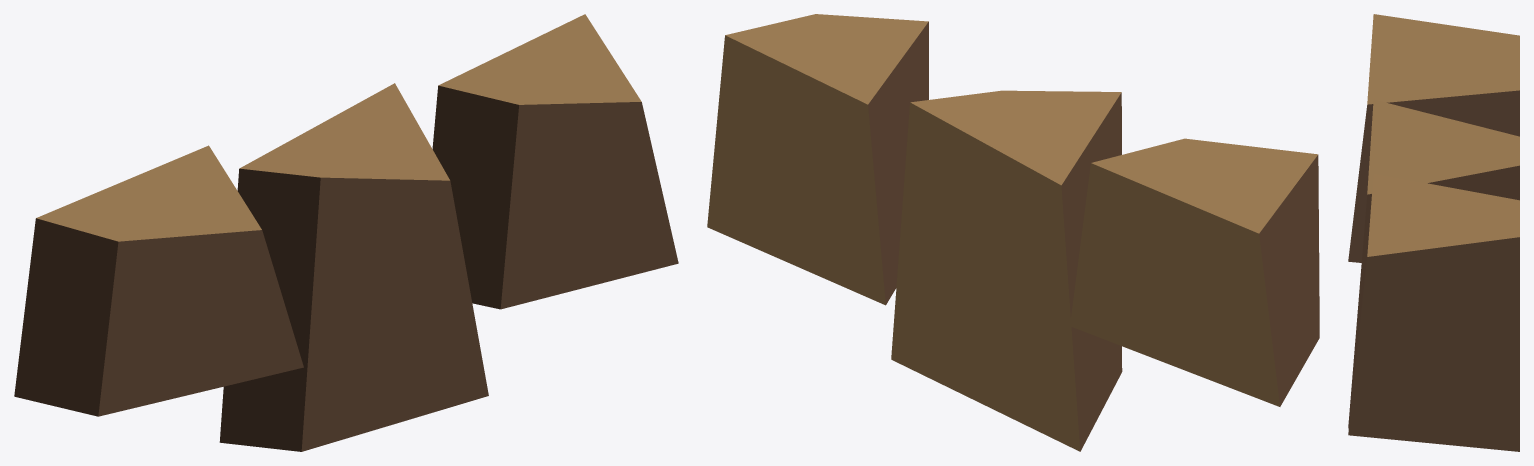
The model's file is rootfall-seam.glb.
3 renders of one model, left to right at view 1: azimuth 30°, elevation 25°; view 2: azimuth 150°, elevation 25°; view 3: azimuth 270°, elevation 25°, orthographic. The views are drawn at different scales.
Parts seen in each view (by area): view 1: RootfallBark_chunk_1, RootfallBark_chunk_0, RootfallBark_chunk_2; view 2: RootfallBark_chunk_1, RootfallBark_chunk_0, RootfallBark_chunk_2; view 3: RootfallBark_chunk_2, RootfallBark_chunk_0, RootfallBark_chunk_1.
Part boxes in pixels (x1,y1,x2,y2): RootfallBark_chunk_1: (219, 83, 488, 451); RootfallBark_chunk_0: (14, 145, 303, 416); RootfallBark_chunk_2: (432, 14, 678, 309); RootfallBark_chunk_1: (891, 90, 1122, 451); RootfallBark_chunk_0: (1070, 138, 1319, 406); RootfallBark_chunk_2: (707, 14, 928, 305); RootfallBark_chunk_2: (1348, 173, 1519, 451); RootfallBark_chunk_0: (1348, 14, 1519, 262); RootfallBark_chunk_1: (1348, 99, 1519, 428).
Bounding box in the file's own units: 0.545 × 0.3 × 0.135.
Materials: 1 (1 with a texture image).
